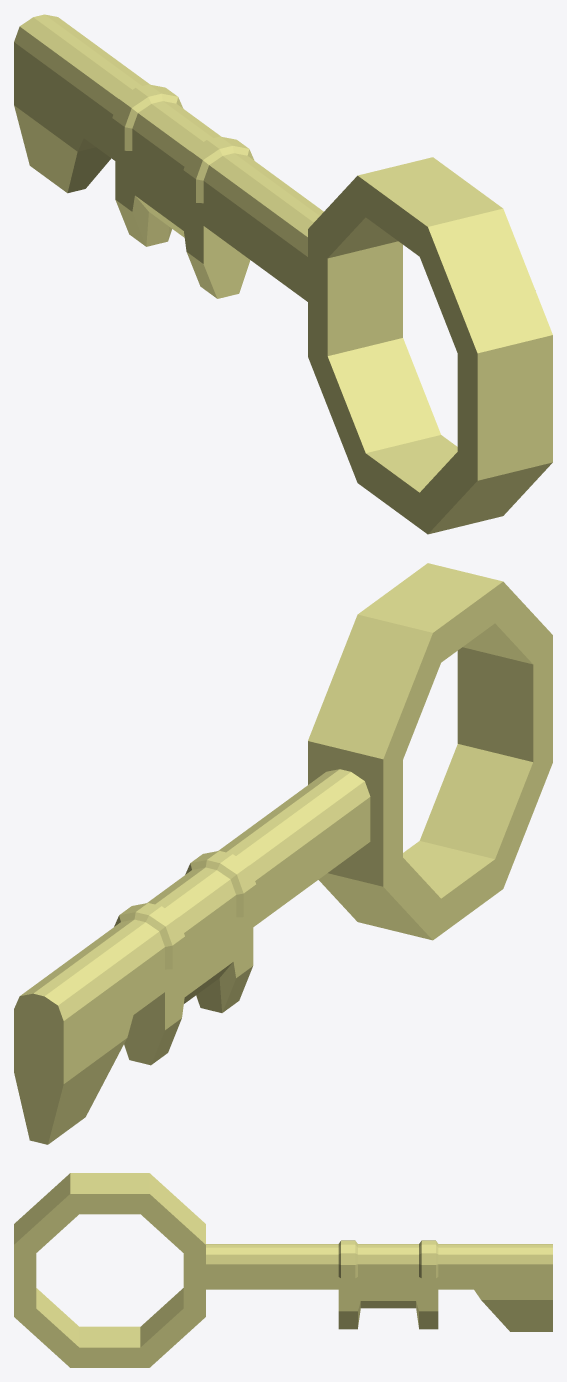
Rendered from anahtar1.fbx.
3 views of the same model, one above another, from view 1: azimuth 30°, elevation 25°; view 2: azimuth 150°, elevation 25°; view 3: azimuth 270°, elevation 25° (orthographic). The views are drawn at different scales.
Visible parts, largest first — view 1: Circle; view 2: Circle; view 3: Circle.
Boxes of the visible parts, x1,y1,x2,y2 form: Circle: [14, 14, 552, 534]; Circle: [14, 563, 552, 1144]; Circle: [14, 1173, 552, 1367].
Bounding box in the file's own units: 71.33 × 278 × 780.
